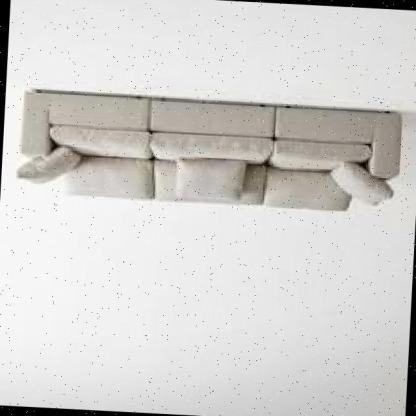Sofa: (11, 73, 416, 237)
